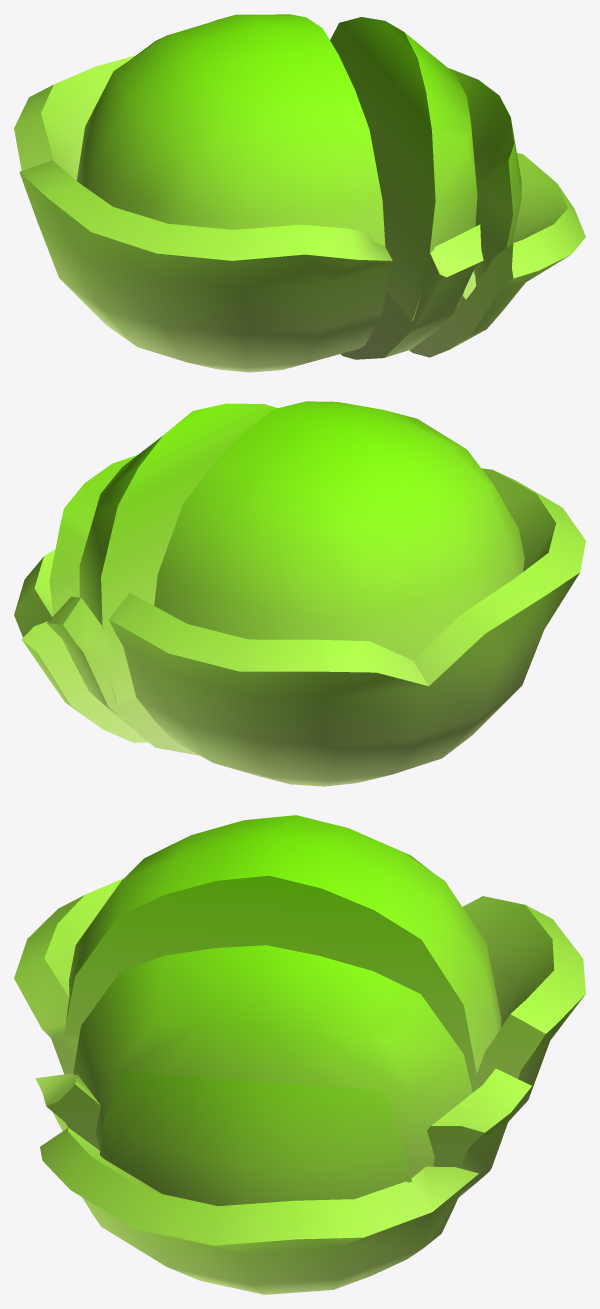
Rendered from Lettuce_01_S2.fbx.
3 renders of one model, top to bottom at view 1: azimuth 30°, elevation 25°; view 2: azimuth 150°, elevation 25°; view 3: azimuth 270°, elevation 25°, orthographic. The views are drawn at different scales.
Parts seen in each view (by area): view 1: Lettuce_01_S2; view 2: Lettuce_01_S2; view 3: Lettuce_01_S2.
Boxes of the visible parts, x1,y1,x2,y2 form: Lettuce_01_S2: (14,14,585,372); Lettuce_01_S2: (14,401,585,786); Lettuce_01_S2: (14,815,585,1294).
Size of the model in its own units: 71.02 by 46.01 by 62.98.
